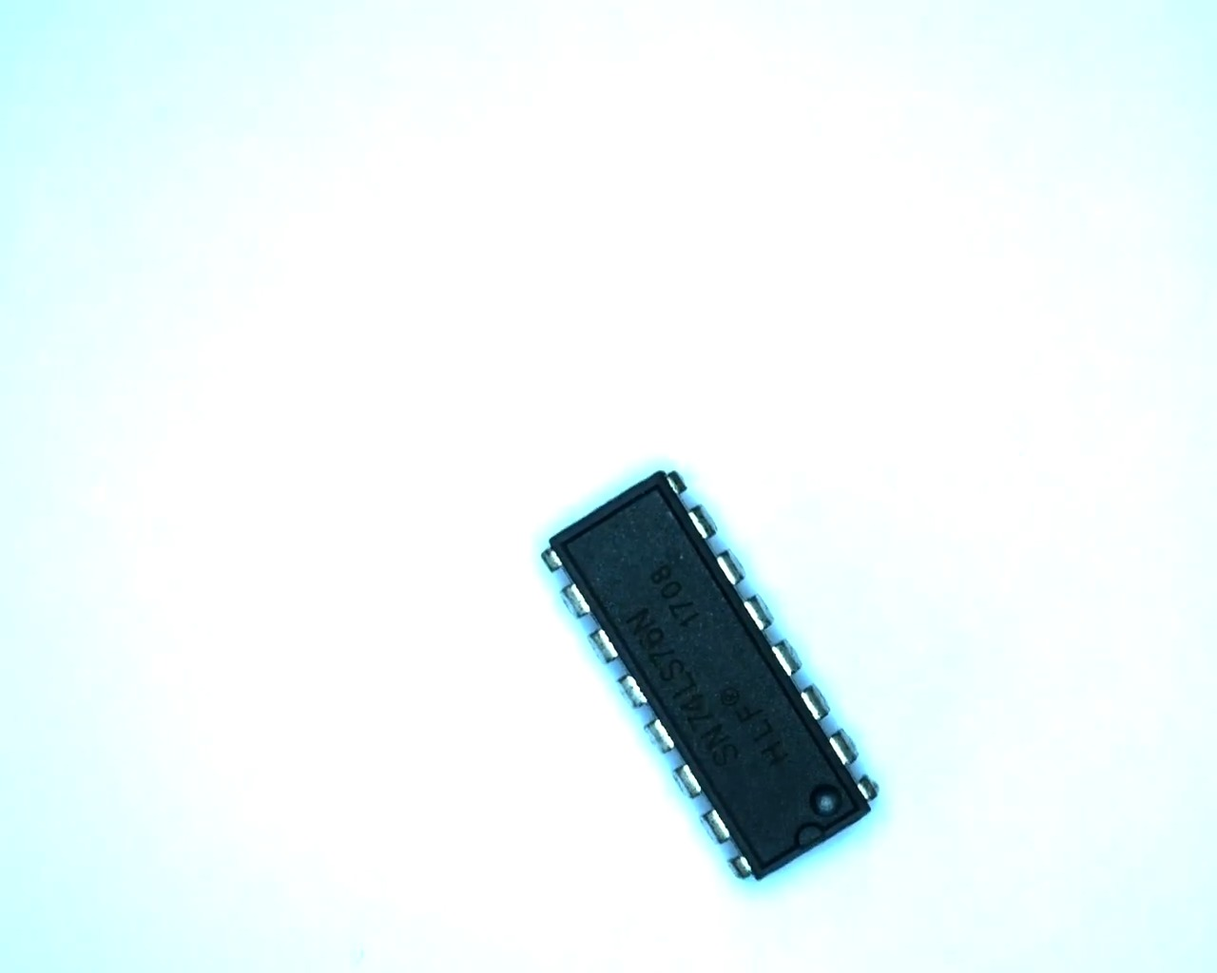IC: (514, 454, 900, 902)
notch: (788, 819, 827, 857)
